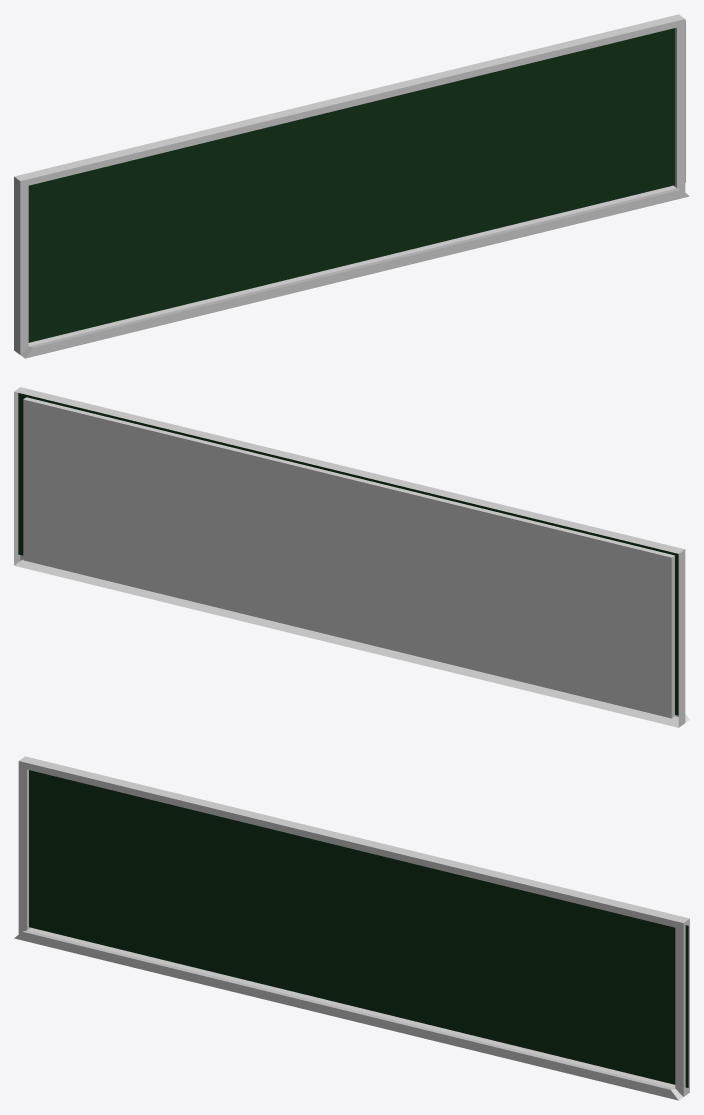
The model's file is board.fbx.
3 views of the same model, one above another, from view 1: azimuth 30°, elevation 25°; view 2: azimuth 150°, elevation 25°; view 3: azimuth 330°, elevation 25° (orthographic).
Visible parts, largest first — view 1: Plane, Lousa; view 2: Lousa, Plane; view 3: Plane, Lousa.
Boxes of the visible parts, box(x1,y1,x2,y2) form: Plane: box(28, 20, 685, 342); Lousa: box(14, 14, 689, 358); Lousa: box(14, 387, 689, 727); Plane: box(18, 393, 678, 715); Plane: box(29, 770, 688, 1087); Lousa: box(14, 756, 689, 1100).
Size of the model in its own units: 603 by 150 by 17.48.
